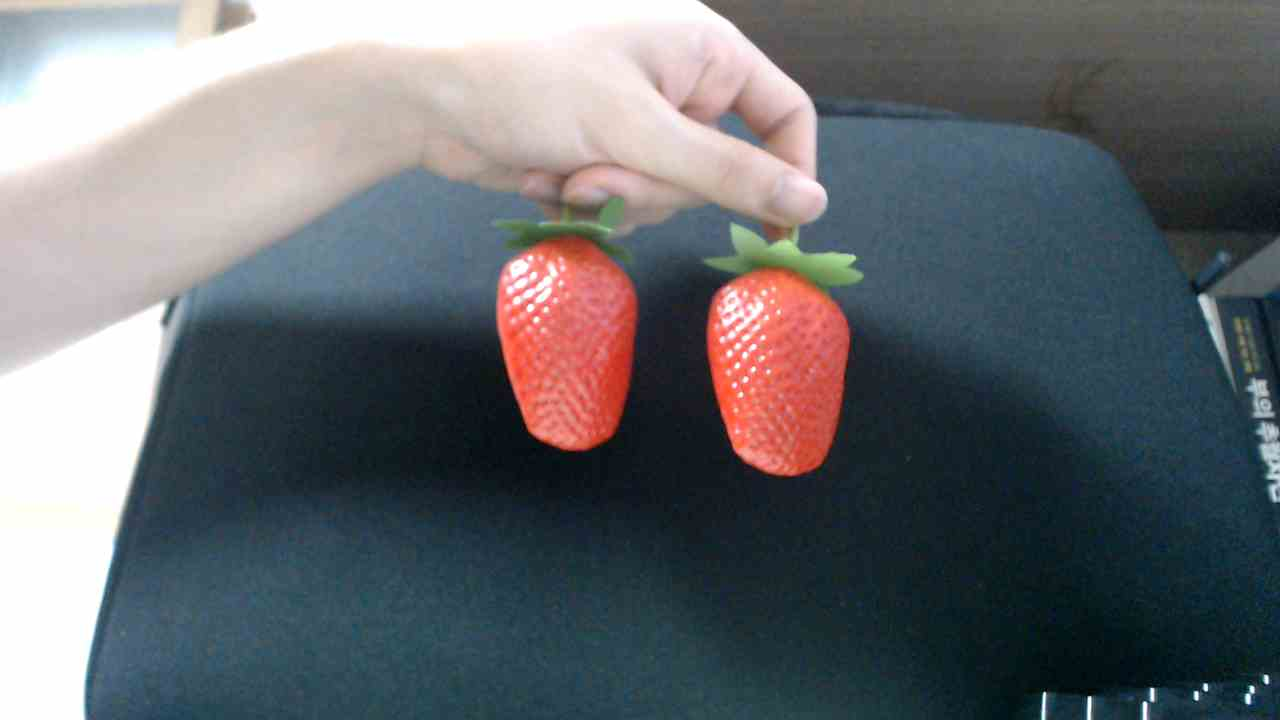strawberry: (474, 211, 646, 452), (690, 237, 856, 486)
